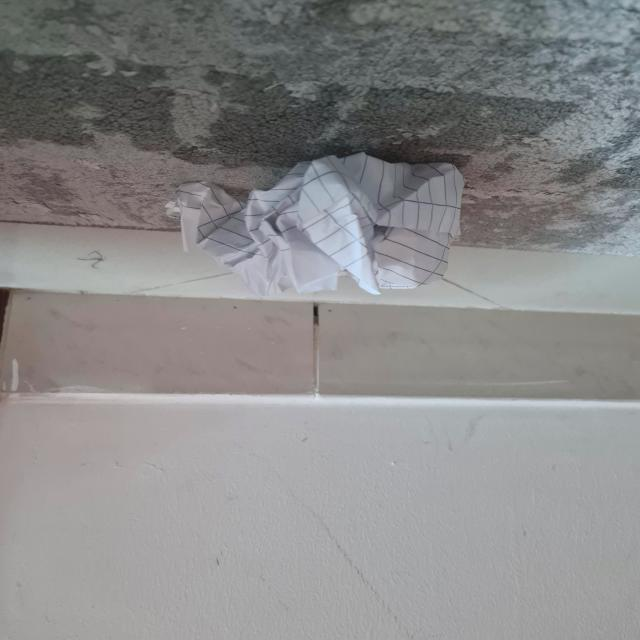Paper: (162, 133, 476, 320)
